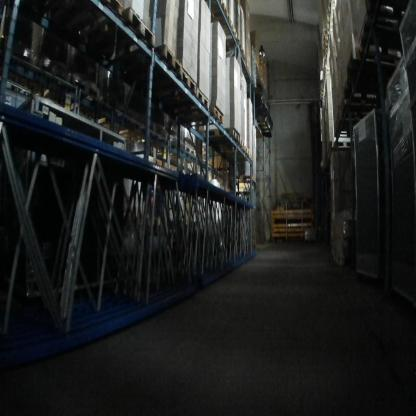pallet: (359, 13, 403, 63), (121, 8, 156, 47), (159, 44, 183, 78), (203, 129, 239, 142), (181, 67, 197, 95), (210, 3, 231, 23), (105, 0, 123, 19), (346, 51, 358, 79), (196, 86, 209, 111), (221, 21, 237, 40), (329, 141, 351, 154), (210, 106, 223, 124), (236, 176, 256, 183), (184, 146, 196, 157), (322, 29, 328, 50), (237, 138, 245, 151), (238, 40, 244, 57), (336, 114, 342, 129), (246, 63, 251, 77), (244, 146, 250, 155), (243, 53, 246, 63), (249, 153, 252, 161)
